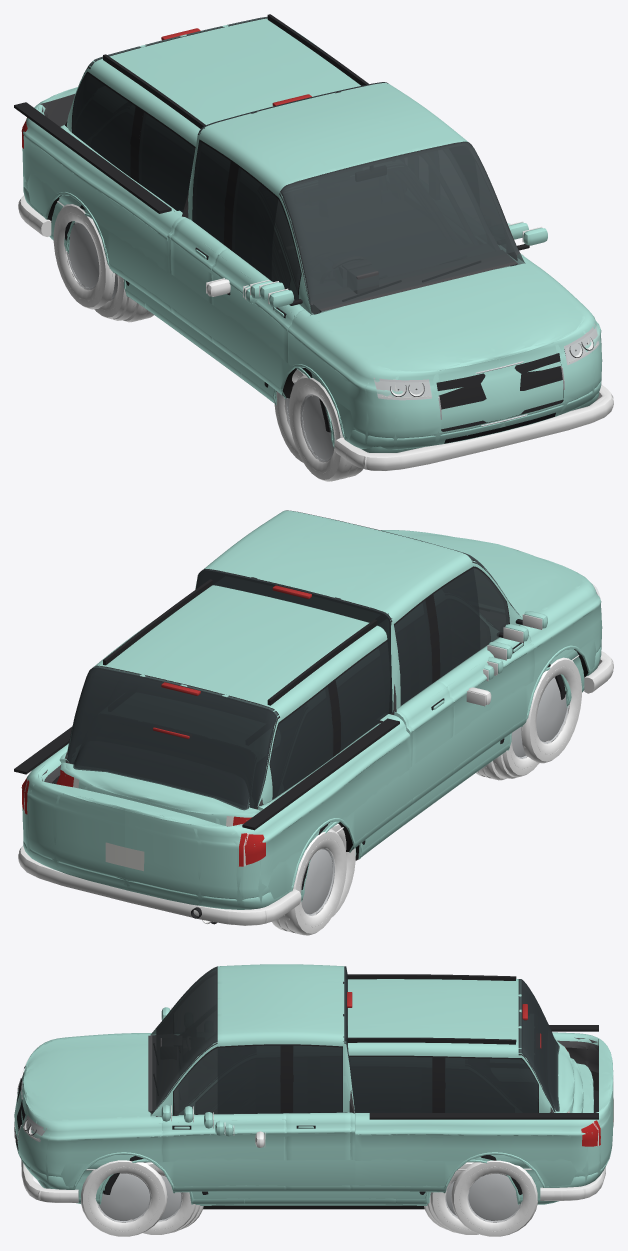
Rendered from parked.glb.
The picture shows the model from 3 angles, top to bottom: view 1: azimuth 30°, elevation 25°; view 2: azimuth 150°, elevation 25°; view 3: azimuth 270°, elevation 25°; orthographic projection. The views are drawn at different scales.
Parts seen in each view (by area): view 1: pickup_body, pickup_glass_L1, pickup_glass, pickup_body_L1, pickup_gh, suv_gh, pickup_trim, suv_glass, suv_glass_L1, coupe_trim, pickup_trim_L1, pickup_wheel_FR_mesh (+11 smaller); view 2: pickup_body, suv_glass, suv_glass_L1, suv_gh, pickup_gh, pickup_body_L1, pickup_glass, pickup_glass_L1, pickup_trim, wagon_glass, coupe_trim, wagon_glass_L1 (+15 smaller); view 3: pickup_body, pickup_body_L1, pickup_glass, pickup_glass_L1, suv_gh, pickup_gh, suv_glass, suv_glass_L1, pickup_trim, pickup_wheel_FL_mesh, pickup_wheel_RL_mesh, coupe_body_L1 (+17 smaller).
Boxes of the visible parts, x1,y1,x2,y2 form: pickup_body: [22, 87, 601, 449]; pickup_glass_L1: [193, 82, 524, 314]; pickup_glass: [192, 82, 519, 302]; pickup_body_L1: [22, 87, 602, 449]; pickup_gh: [188, 82, 520, 311]; suv_gh: [67, 18, 360, 298]; pickup_trim: [14, 82, 600, 443]; suv_glass: [72, 16, 267, 212]; suv_glass_L1: [72, 74, 194, 211]; coupe_trim: [18, 195, 613, 470]; pickup_trim_L1: [45, 94, 588, 433]; pickup_wheel_FR_mesh: [289, 375, 362, 481]; pickup_body: [22, 530, 601, 909]; suv_glass: [67, 641, 390, 808]; suv_glass_L1: [68, 643, 390, 808]; suv_gh: [67, 585, 499, 806]; pickup_gh: [195, 510, 520, 711]; pickup_body_L1: [26, 530, 602, 908]; pickup_glass: [196, 510, 519, 713]; pickup_glass_L1: [198, 520, 508, 713]; pickup_trim: [14, 510, 599, 918]; wagon_glass: [73, 736, 249, 810]; coupe_trim: [18, 651, 613, 925]; wagon_glass_L1: [75, 742, 247, 808]; pickup_body: [15, 1032, 613, 1192]; pickup_body_L1: [14, 1034, 611, 1191]; pickup_glass: [156, 966, 355, 1115]; pickup_glass_L1: [150, 967, 346, 1115]; suv_gh: [178, 979, 554, 1115]; pickup_gh: [156, 964, 354, 1116]; suv_glass: [197, 979, 555, 1114]; suv_glass_L1: [197, 981, 554, 1114]; pickup_trim: [14, 971, 613, 1193]; pickup_wheel_FL_mesh: [80, 1160, 166, 1236]; pickup_wheel_RL_mesh: [451, 1160, 537, 1236]; coupe_body_L1: [42, 1063, 592, 1204].
Bounding box in the file's own units: 2.31 × 1.93 × 5.37.
